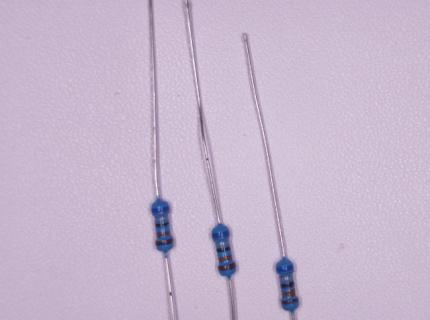Black band: (217, 246, 231, 253), (281, 282, 295, 289), (156, 222, 169, 228)
Blue band: (212, 231, 229, 238), (153, 207, 169, 214), (277, 266, 294, 272)
Brown band: (219, 262, 235, 272), (156, 238, 173, 246), (282, 298, 298, 305)
Grey band: (280, 276, 294, 281), (155, 216, 168, 221), (216, 242, 229, 246)
Orange band: (281, 288, 296, 299), (219, 255, 232, 263), (157, 231, 170, 238)
